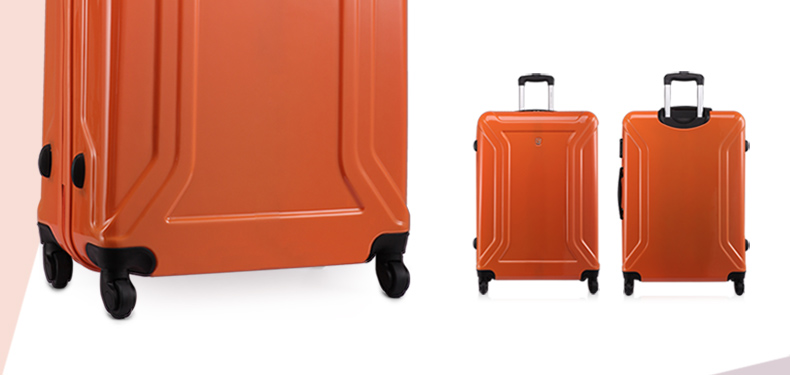luggage: (620, 73, 753, 295), (474, 73, 602, 295)
